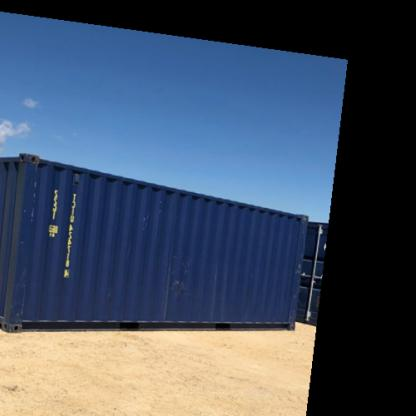Damage: (14, 164, 35, 326), (154, 251, 200, 306)
